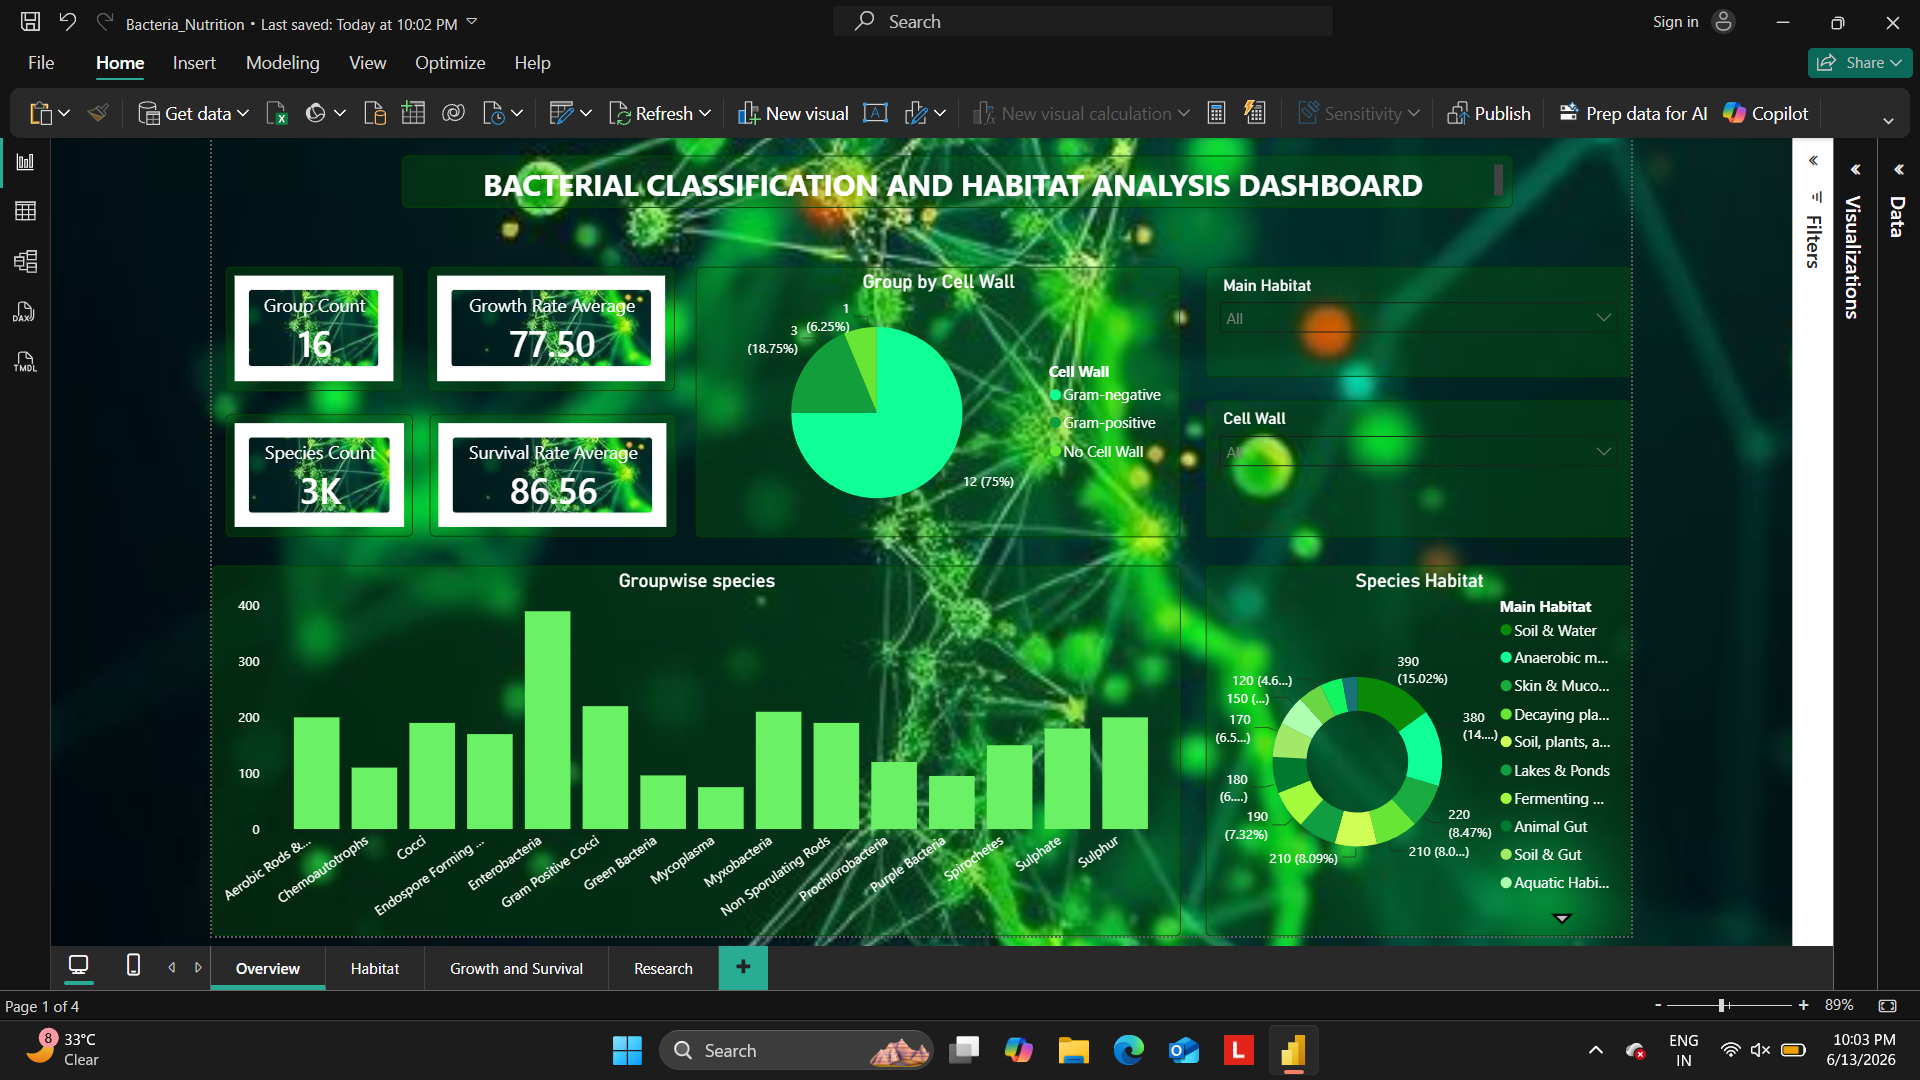

What the dashboard file says about the page in this screenshot:
{"tool":"powerbi","page":{"name":"Overview","canvas":[1280,720],"ordinal":0},"visuals":[{"type":"textbox","box":[171.7,16.2,1001.4,47.3],"z":0},{"type":"cardVisual","fields":{"Data":["CountNonNull(Sheet1.Group)"]},"box":[12.4,115.7,159.2,112],"z":1000},{"type":"cardVisual","fields":{"Data":["Sum(Sheet1.Species_Count)"]},"box":[12.4,248.8,169.2,110.7],"z":2000},{"type":"cardVisual","fields":{"Data":["Avg(Sheet1.Growth_Rate_%)"]},"box":[195.3,115.7,222.7,112],"z":3000},{"type":"cardVisual","fields":{"Data":["Avg(Sheet1.Survival_Rate_%)"]},"box":[196.5,248.8,222.7,110.7],"z":4000},{"type":"donutChart","title":"Species Habitat","fields":{"Category":["Sheet1.Main Habitat"],"Y":["Sum(Sheet1.Species_Count)"]},"box":[895.7,385.6,384.4,334.6],"z":5000},{"type":"pieChart","fields":{"Y":["CountNonNull(Sheet1.Group)"],"Category":["Sheet1.Cell Wall"]},"box":[436.6,115.7,436.6,243.8],"z":6000},{"type":"slicer","title":"Cell Wall","fields":{"Values":["Sheet1.Cell Wall"]},"box":[895.7,236.4,384.4,123.2],"z":7000},{"type":"slicer","fields":{"Values":["Sheet1.Main Habitat"]},"box":[895.7,115.7,384.4,99.5],"z":8000},{"type":"clusteredColumnChart","title":"Groupwise species","fields":{"Category":["Sheet1.Group"],"Y":["Sum(Sheet1.Species_Count)"]},"box":[0,385.6,873.3,334.6],"z":9000}]}

Visuals, with their boxes on the page's 1280x720 design canvas (x1, y1, x2, y2). These are canvas units, not pixel positions in the 1920x1080 screenshot, which may show the page scaled, cropped or inside an application window:
textbox: 172 16 1173 64
cardVisual - CountNonNull(Sheet1.Group): 12 116 172 228
cardVisual - Sum(Sheet1.Species_Count): 12 249 182 360
cardVisual - Avg(Sheet1.Growth_Rate_%): 195 116 418 228
cardVisual - Avg(Sheet1.Survival_Rate_%): 196 249 419 360
"Species Habitat" donutChart: 896 386 1280 720
pieChart - CountNonNull(Sheet1.Group) x Sheet1.Cell Wall: 437 116 873 360
"Cell Wall" slicer: 896 236 1280 360
slicer - Sheet1.Main Habitat: 896 116 1280 215
"Groupwise species" clusteredColumnChart: 0 386 873 720
